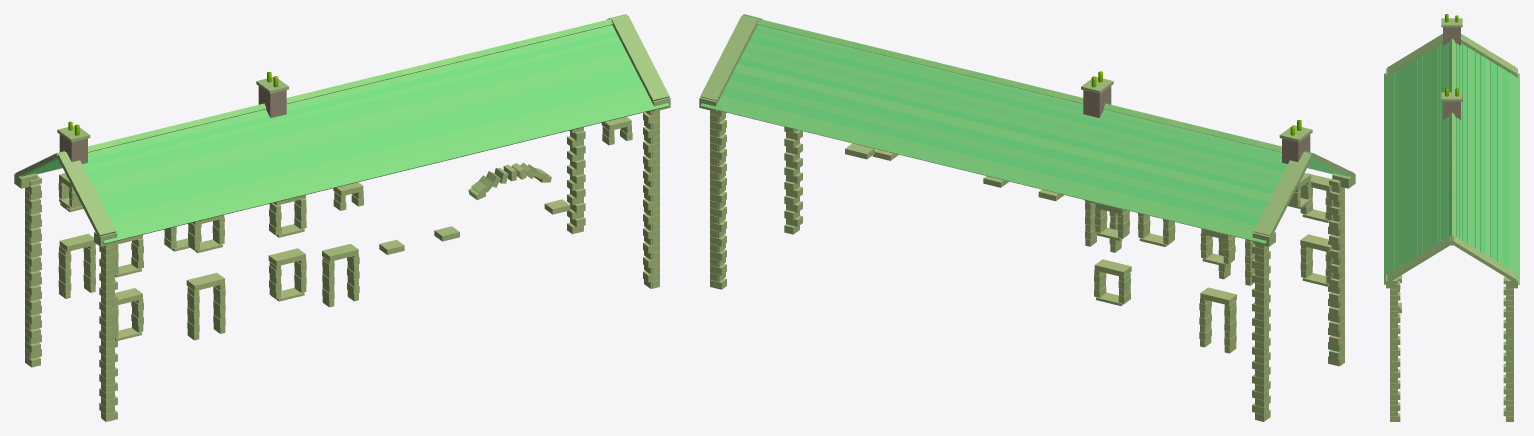
The model's file is SM_Bld_228_Stone.glb.
3 views of the same model, side by side, from view 1: azimuth 30°, elevation 25°; view 2: azimuth 150°, elevation 25°; view 3: azimuth 270°, elevation 25° (orthographic). The views are drawn at different scales.
Parts seen in each view (by area): view 1: SM_Bld_228_Stone; view 2: SM_Bld_228_Stone; view 3: SM_Bld_228_Stone.
Part boxes in pixels (<box>): SM_Bld_228_Stone: <box>14,14,670,421</box>; SM_Bld_228_Stone: <box>699,14,1355,421</box>; SM_Bld_228_Stone: <box>1384,14,1519,421</box>.
Size of the model in its own units: 24.8 by 11.1 by 6.7.
